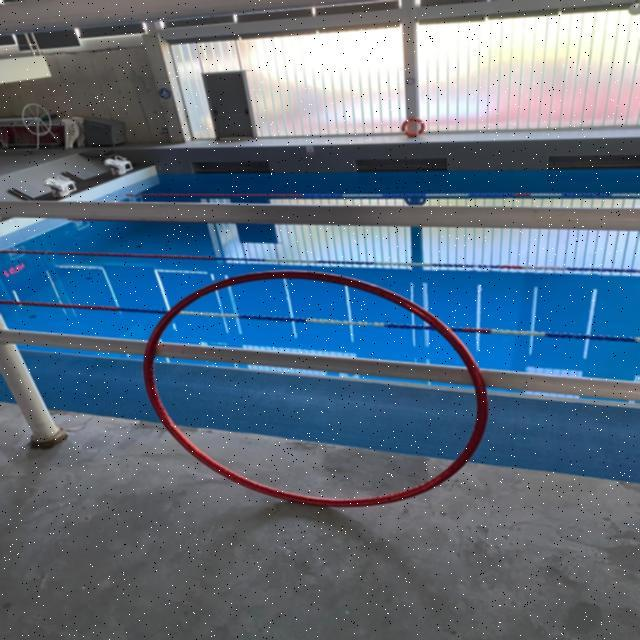Circle: (142, 268, 486, 506)
